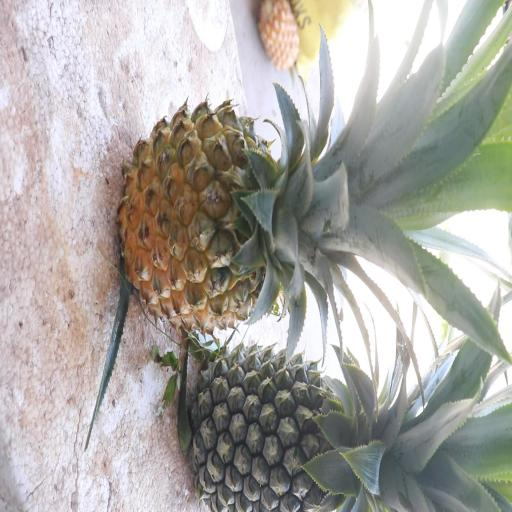Pineapple - v8 v1: (114, 90, 395, 325)
